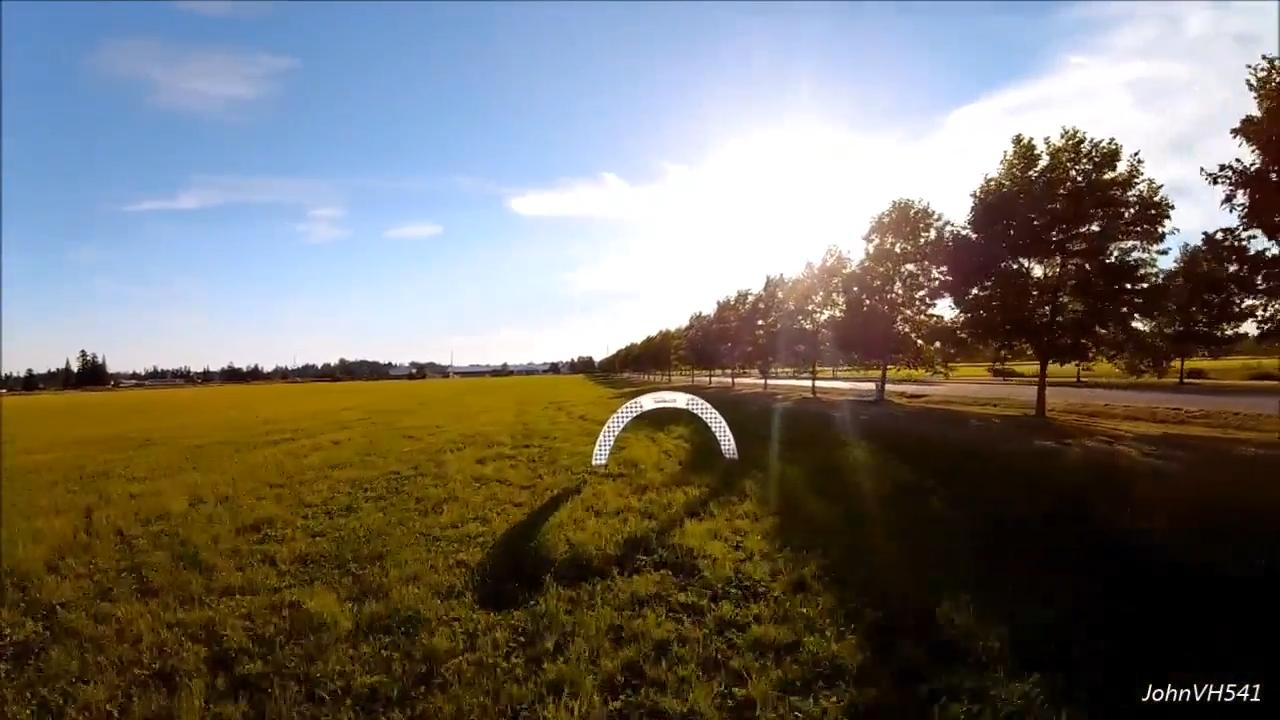gate: (592, 389, 738, 467)
